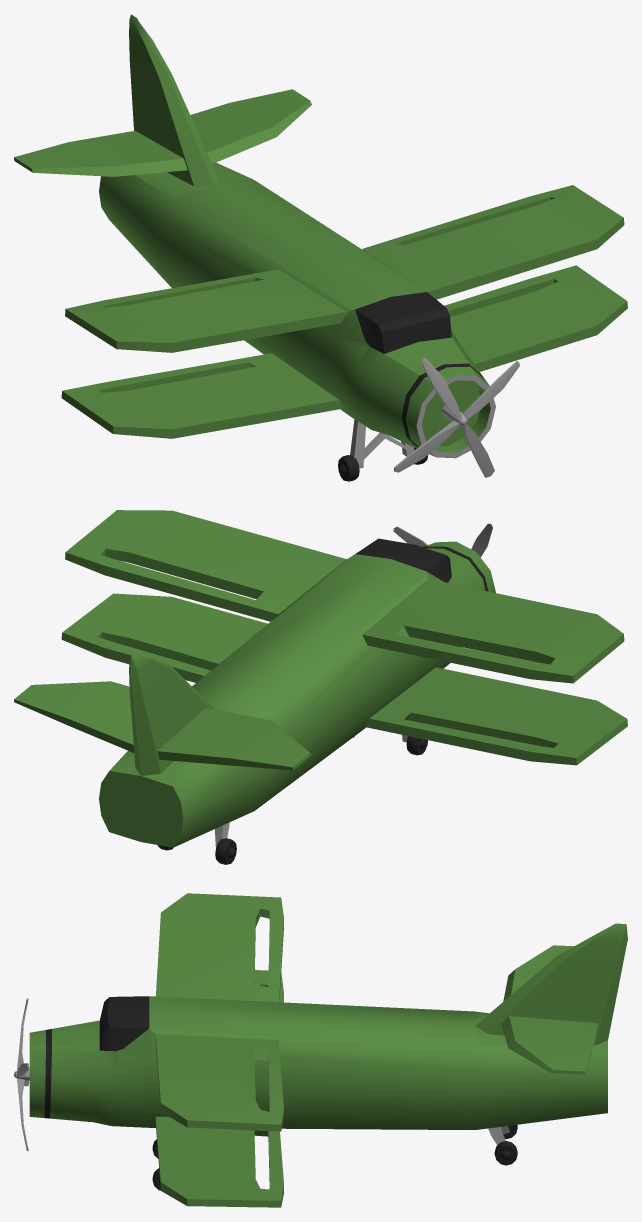
Rendered from PlaneSeperated 1.fbx.
3 renders of one model, top to bottom at view 1: azimuth 30°, elevation 25°; view 2: azimuth 150°, elevation 25°; view 3: azimuth 270°, elevation 25°, orthographic. The views are drawn at different scales.
Parts seen in each view (by area): view 1: Plane, LeftUpperWIng, RightLowerWing, RightUpperWIng, LeftLowerWing, Rotator, FrontWheels; view 2: Plane, LeftUpperWIng, RightUpperWIng, RightLowerWing, LeftLowerWing, Rotator; view 3: Plane, RightUpperWIng, LeftUpperWIng, LeftLowerWing, Rotator.
Boxes of the visible parts, x1,y1,x2,y2 form: Plane: (14,14,495,458); LeftUpperWIng: (362,185,624,299); RightLowerWing: (61,353,342,438); RightUpperWIng: (65,269,346,352); LeftLowerWing: (444,265,627,371); Rotator: (394,358,519,477); FrontWheels: (338,419,427,481); Plane: (14,538,495,864); LeftUpperWIng: (65,510,346,621); RightUpperWIng: (362,579,624,683); RightLowerWing: (365,667,627,765); LeftLowerWing: (61,593,267,682); Rotator: (393,523,492,557); Plane: (29,923,627,1165); RightUpperWIng: (155,893,283,1002); LeftUpperWIng: (155,1034,283,1131); LeftLowerWing: (155,1116,283,1207); Rotator: (14,998,29,1151).
Bounding box in the file's own units: 1074 × 545 × 1208.
